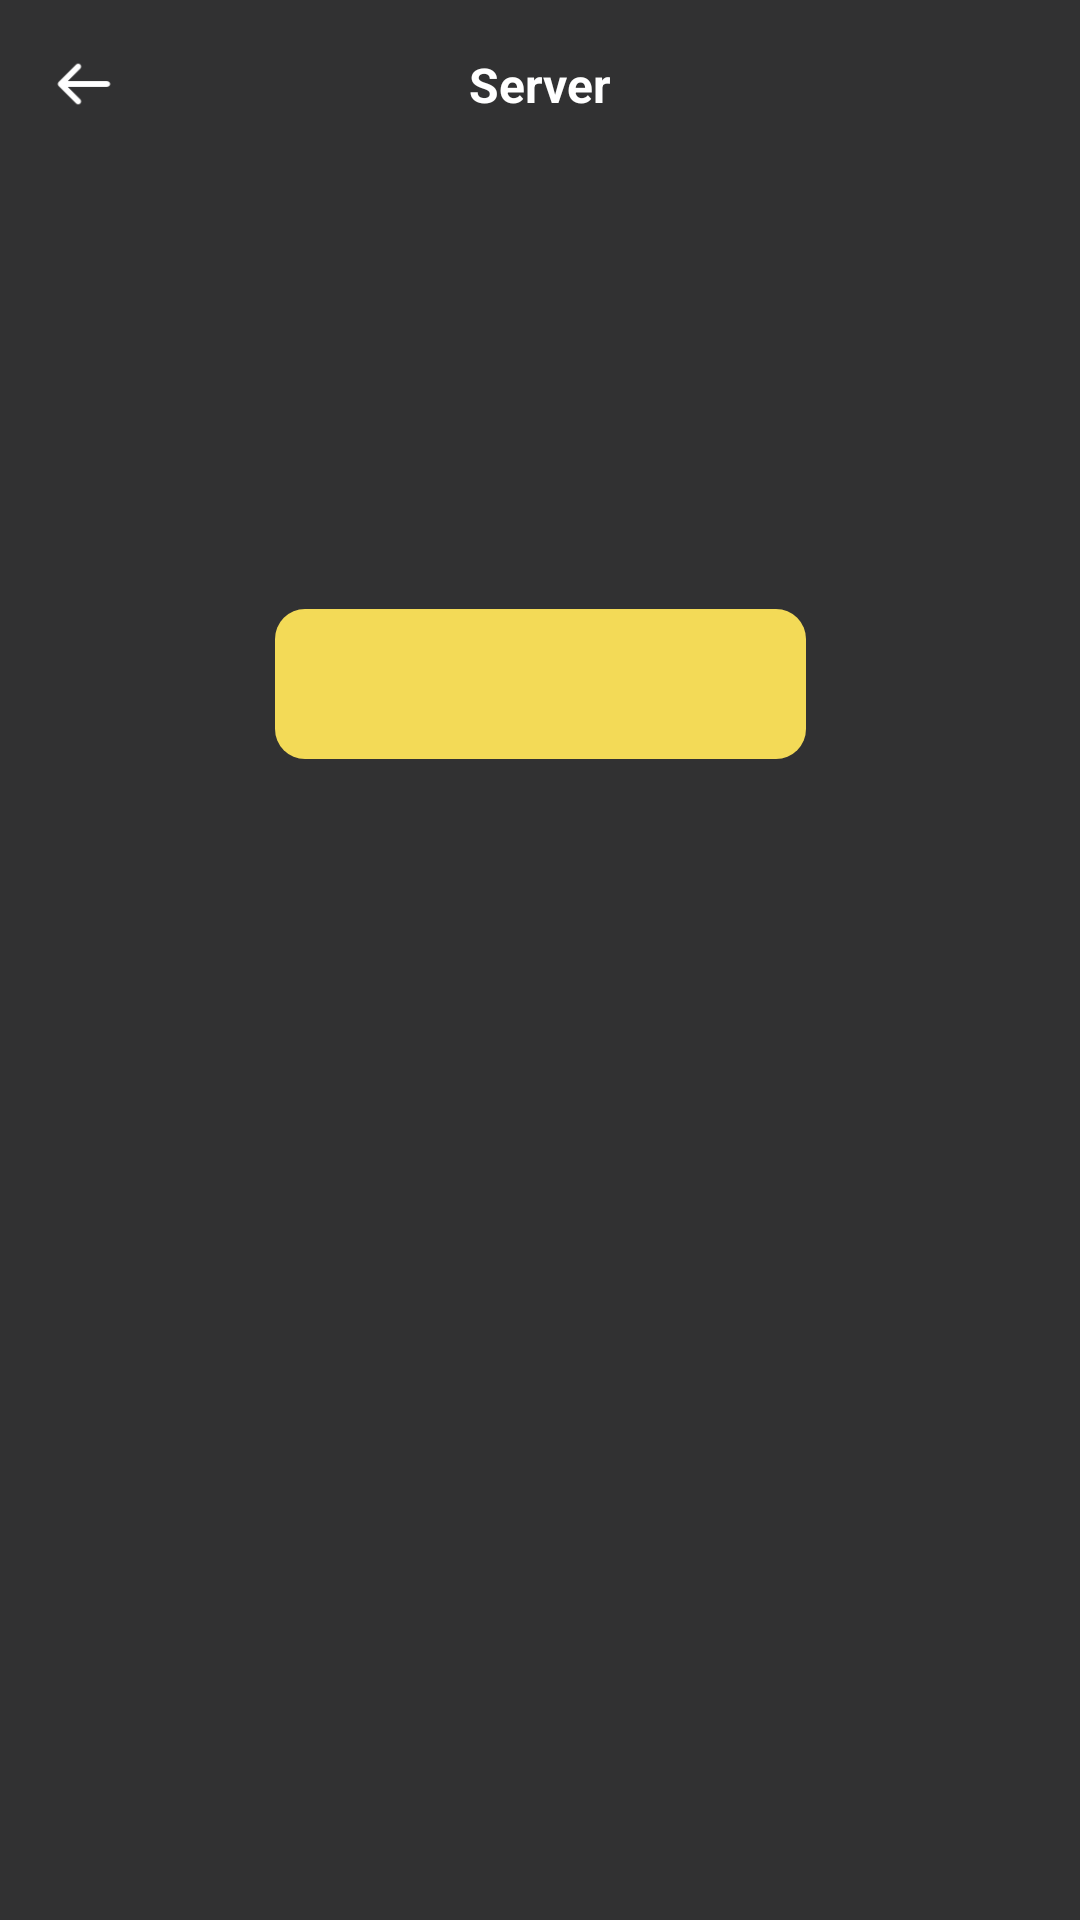

Icons on this 1080x1920 Android screen, each with the point to tap as (x=x, y=y):
back: (x=84, y=84)
